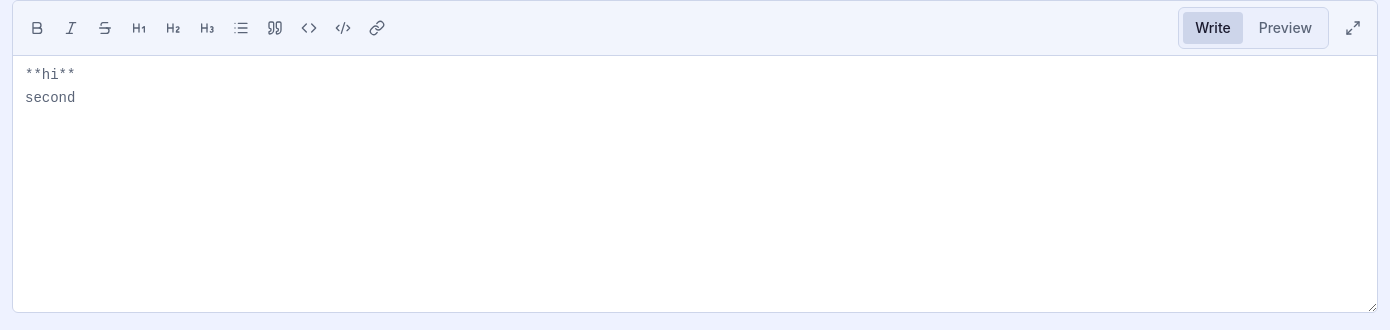
it: MarkdownEditor › hides the formatting toolbar in preview mode and renders markdown with line breaks
Expected: the element named "Markdown formatting" is shown, x1=21 y1=12 x2=393 y2=44
Click the radio button labelled "Preview".
click(1285, 28)  # box x1=1247 y1=12 x2=1324 y2=44
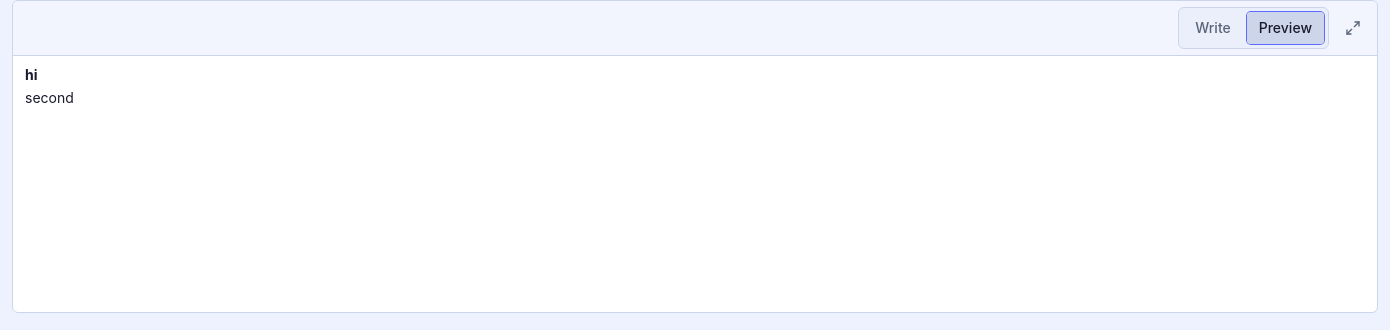
Now the text "hi" is shown, box x1=25 y1=66 x2=38 y2=83
